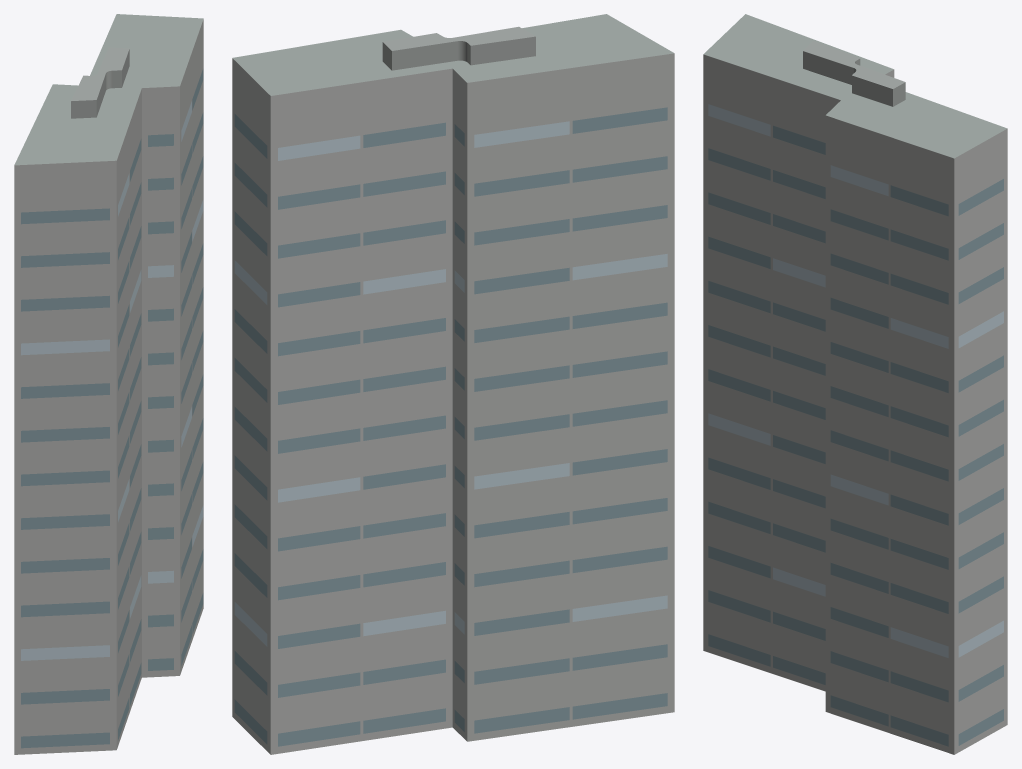
The model's file is fallback-jamsil-ricenz-209.glb.
3 renders of one model, left to right at view 1: azimuth 30°, elevation 25°; view 2: azimuth 150°, elevation 25°; view 3: azimuth 270°, elevation 25°, orthographic. The views are drawn at different scales.
Parts seen in each view (by area): view 1: fallback-jamsil-ricenz-209; view 2: fallback-jamsil-ricenz-209; view 3: fallback-jamsil-ricenz-209.
Boxes of the visible parts, box(x1,y1,x2,y2) form: fallback-jamsil-ricenz-209: box(14, 14, 203, 754); fallback-jamsil-ricenz-209: box(232, 14, 674, 754); fallback-jamsil-ricenz-209: box(703, 14, 1007, 754).
Size of the model in its own units: 41.89 by 83 by 37.27.
